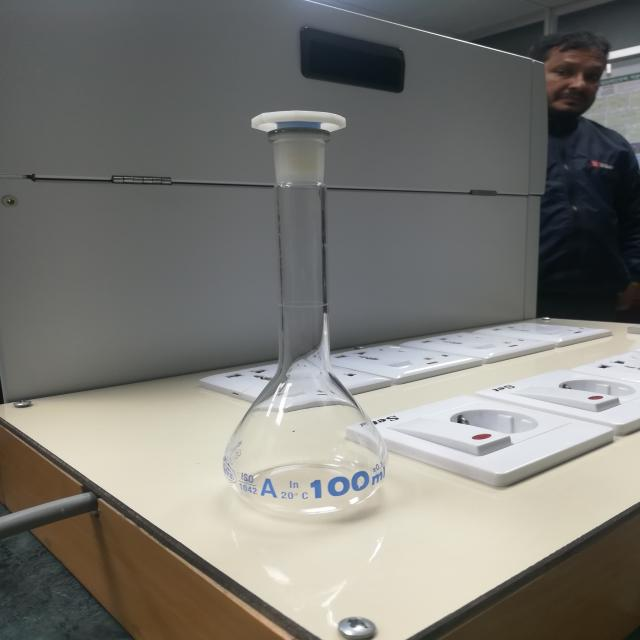Volumetric_Flask: (205, 74, 432, 537)
